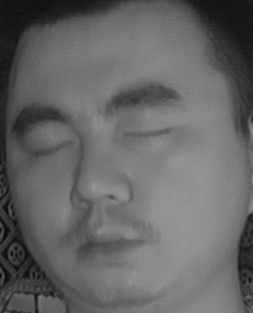blink: (124, 115, 170, 154), (29, 130, 73, 166)
mouth: (65, 218, 145, 270)
